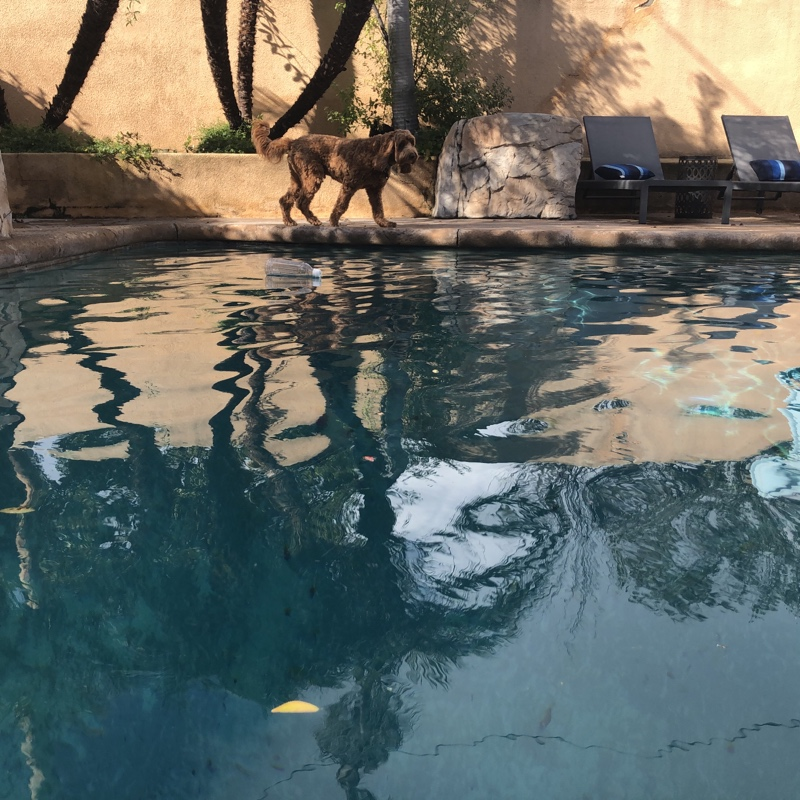Plastic Bottle: (263, 256, 323, 280)
